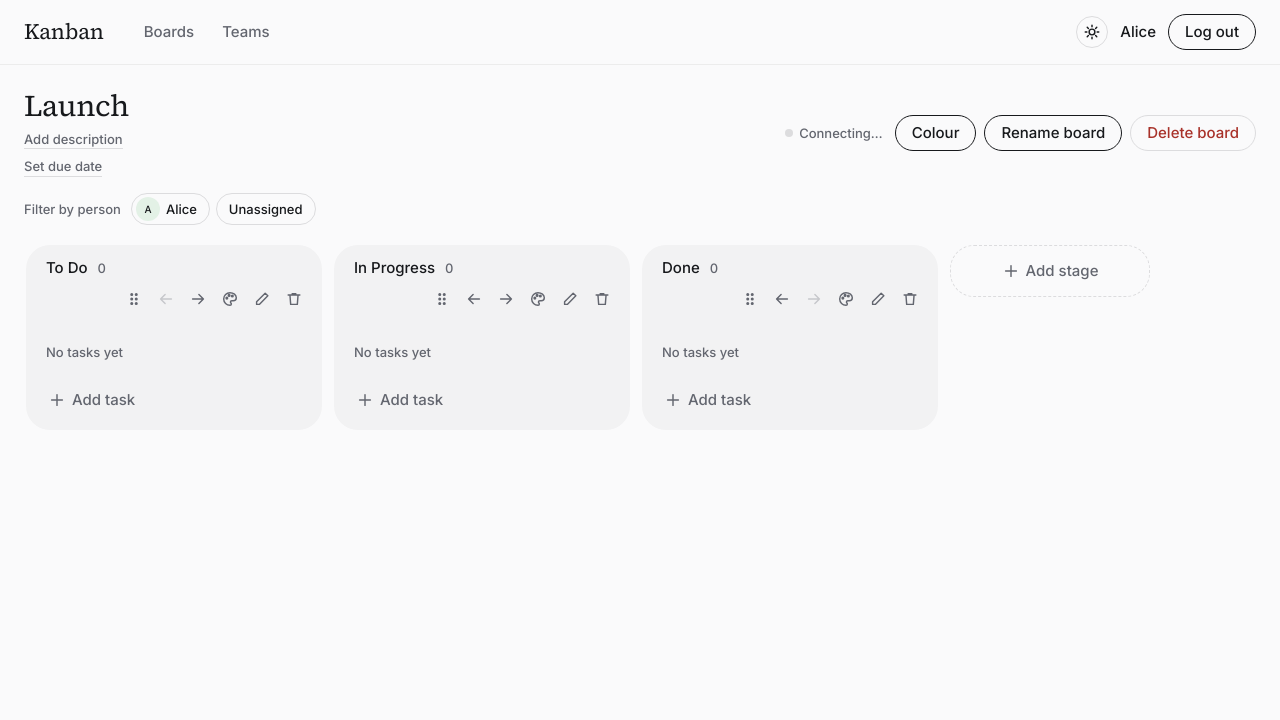
Test: board description › can be added from the board page
Click the button "Add description": click(73, 139) [24,130,123,149]
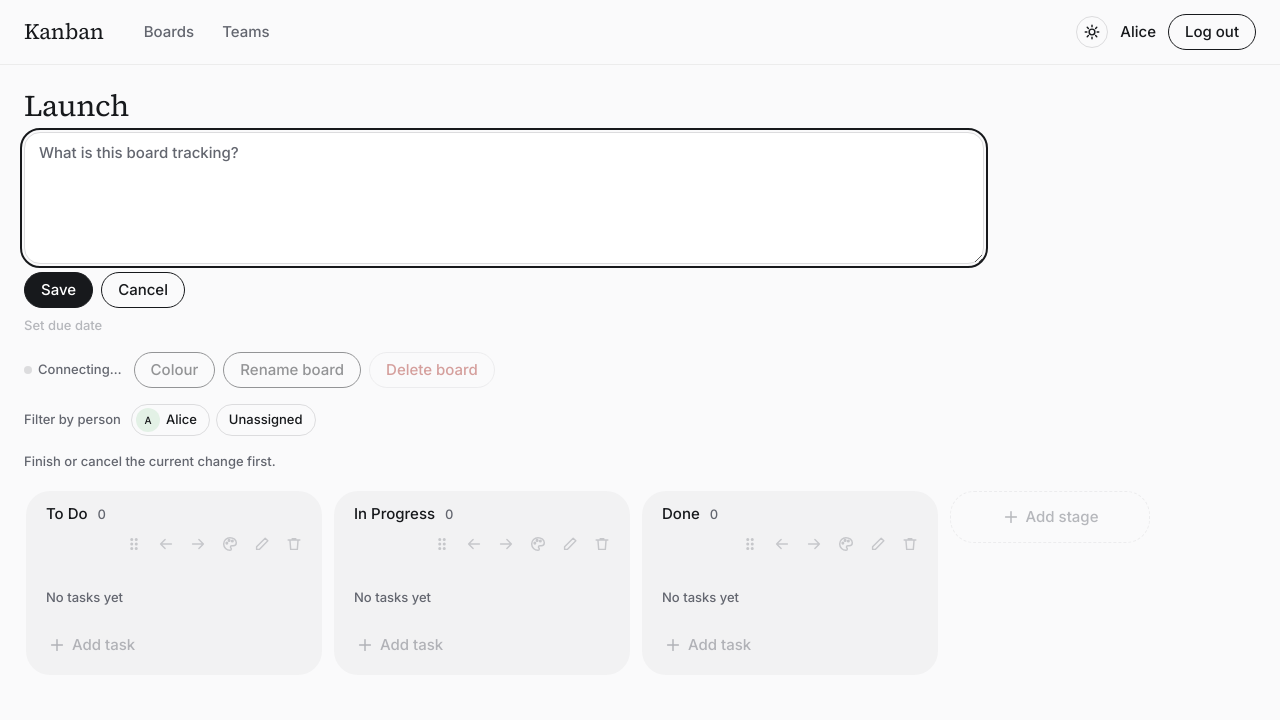
In the text box named "Board description": (504, 198) [24,132,984,264], type "Everything needed to ship v2"
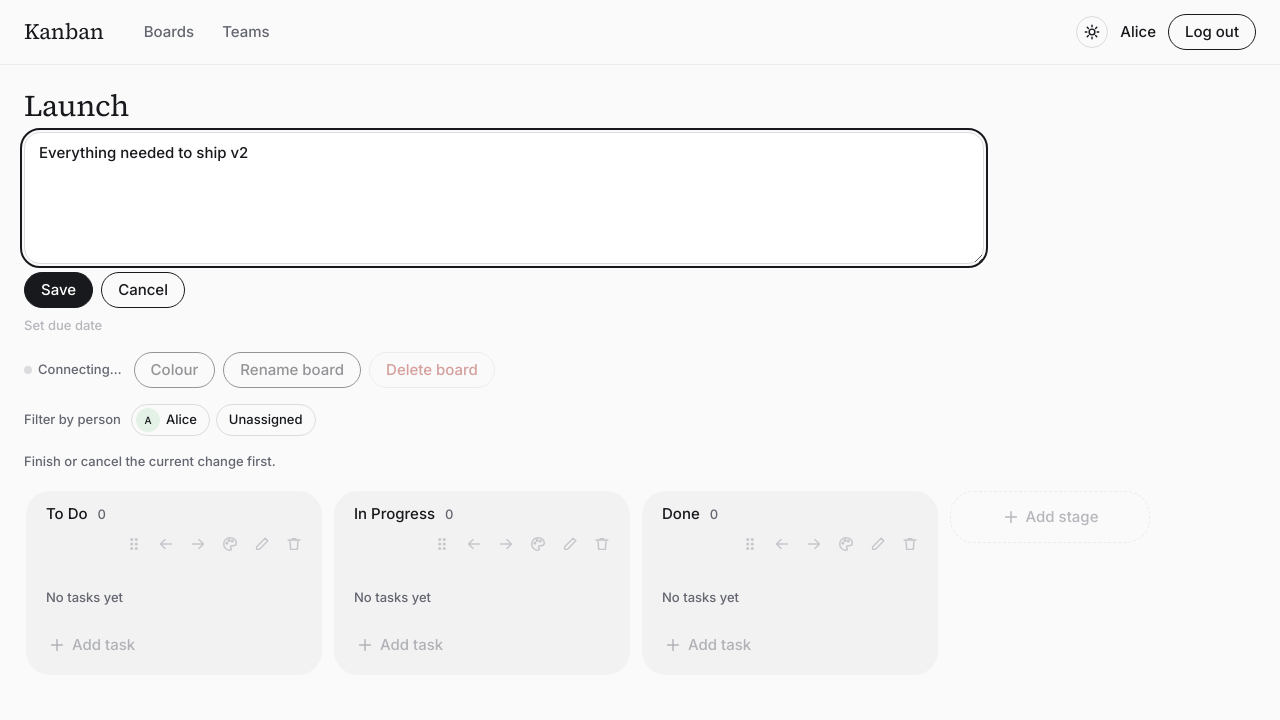
Click the button "Save": click(59, 290) [24,272,93,308]
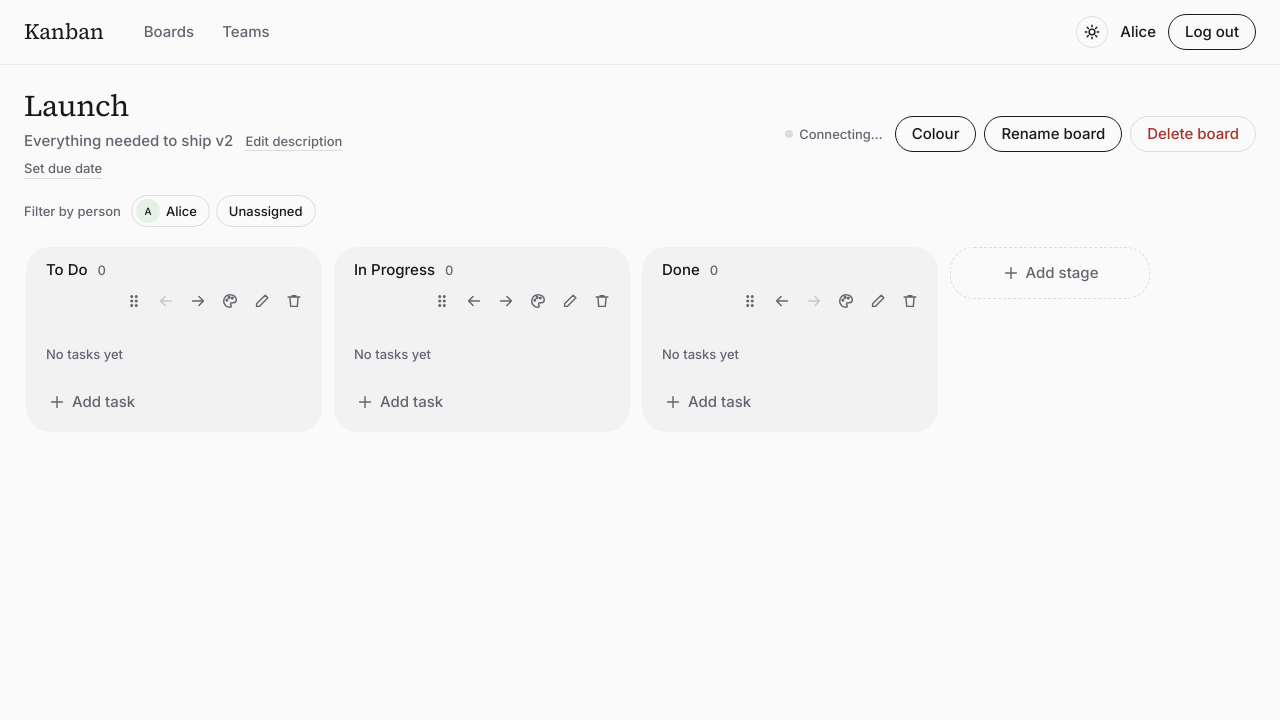
Result: the text "Everything needed to ship v2" is shown at [24,130,233,151]
Result: the button "Edit description" is shown at [245,132,342,151]
